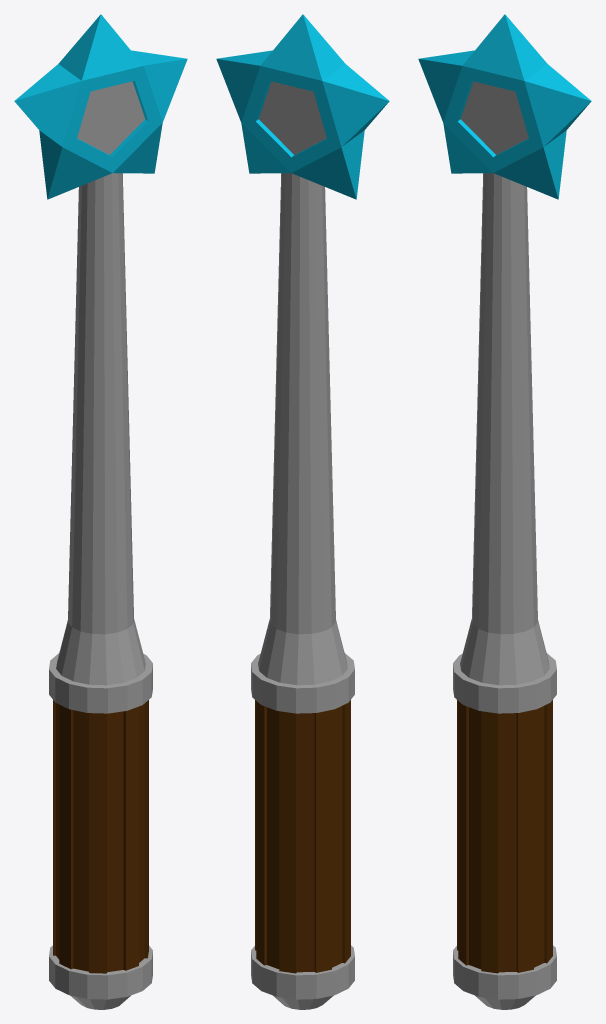
File: Wand.glb
The picture shows the model from 3 angles, left to right: view 1: azimuth 30°, elevation 25°; view 2: azimuth 150°, elevation 25°; view 3: azimuth 330°, elevation 25°; orthographic projection.
Visible parts, largest first — view 1: Cylinder.002; view 2: Cylinder.002; view 3: Cylinder.002.
Part boxes in pixels (x1,y1,x2,y2): Cylinder.002: (14, 14, 187, 1009); Cylinder.002: (216, 14, 389, 1009); Cylinder.002: (418, 14, 591, 1009).
Size of the model in its own units: 0.4176 by 2.27 by 0.219.
